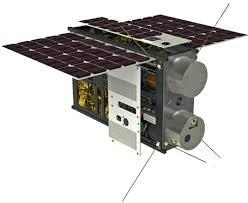antenna: (193, 1, 234, 61), (121, 146, 158, 202), (170, 144, 210, 165), (200, 137, 224, 158)
body: (67, 25, 208, 154)
solar: (0, 30, 152, 81), (117, 11, 248, 55), (77, 14, 165, 43)
